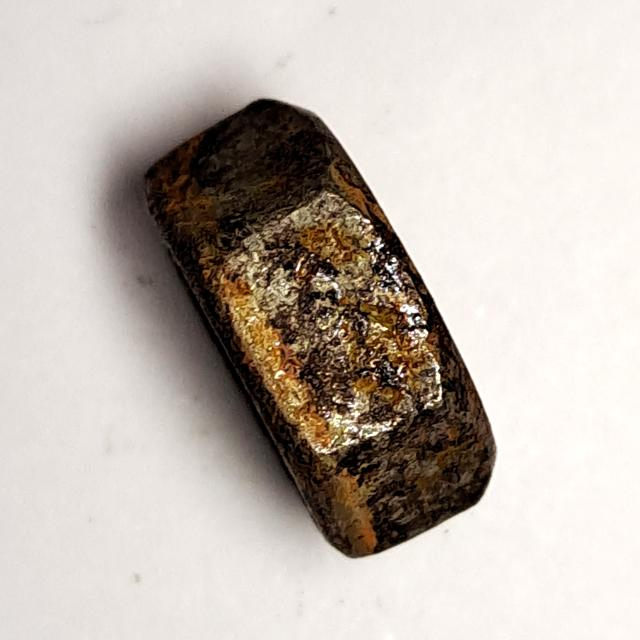Side_Rust: (134, 89, 516, 570)
